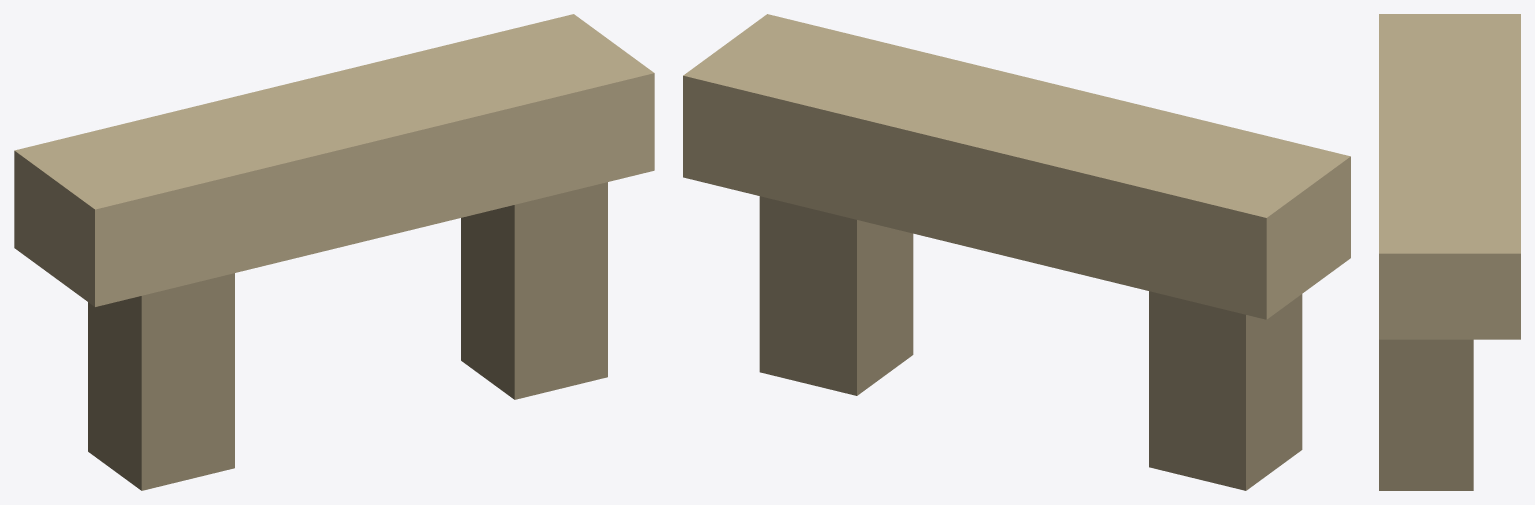
Rendered from balda_arce_01.glb.
3 views of the same model, side by side, from view 1: azimuth 30°, elevation 25°; view 2: azimuth 150°, elevation 25°; view 3: azimuth 270°, elevation 25° (orthographic). The views are drawn at different scales.
Visible parts, largest first — view 1: balda_arce; view 2: balda_arce; view 3: balda_arce.
Part boxes in pixels (bbox=[...]): balda_arce: bbox=[14, 14, 654, 490]; balda_arce: bbox=[683, 14, 1350, 490]; balda_arce: bbox=[1379, 14, 1520, 490].
Size of the model in its own units: 0.9231 by 0.4615 by 0.2308.
